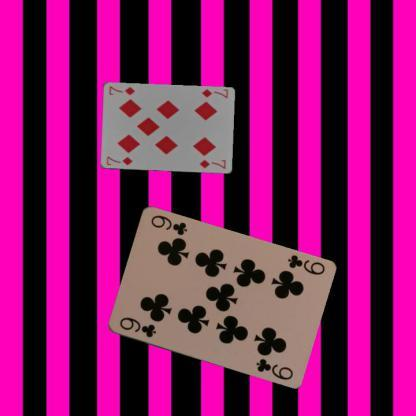7d: (199, 86, 229, 100), (104, 154, 134, 166)
9c: (116, 314, 158, 339), (284, 252, 326, 277)
